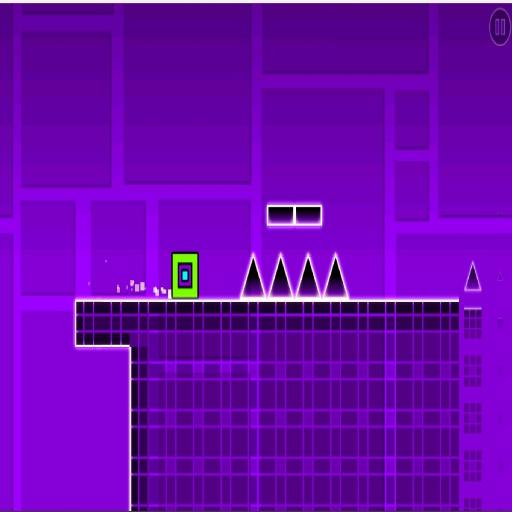block: (73, 299, 482, 511), (267, 205, 293, 225), (296, 205, 321, 225)
player: (171, 253, 198, 299)
spike: (241, 254, 266, 297), (324, 254, 347, 298), (296, 254, 319, 297), (270, 255, 292, 297), (464, 261, 480, 290), (498, 271, 502, 281)
